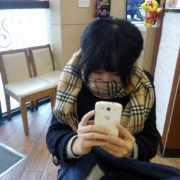WRONG: (85, 59, 126, 98)
